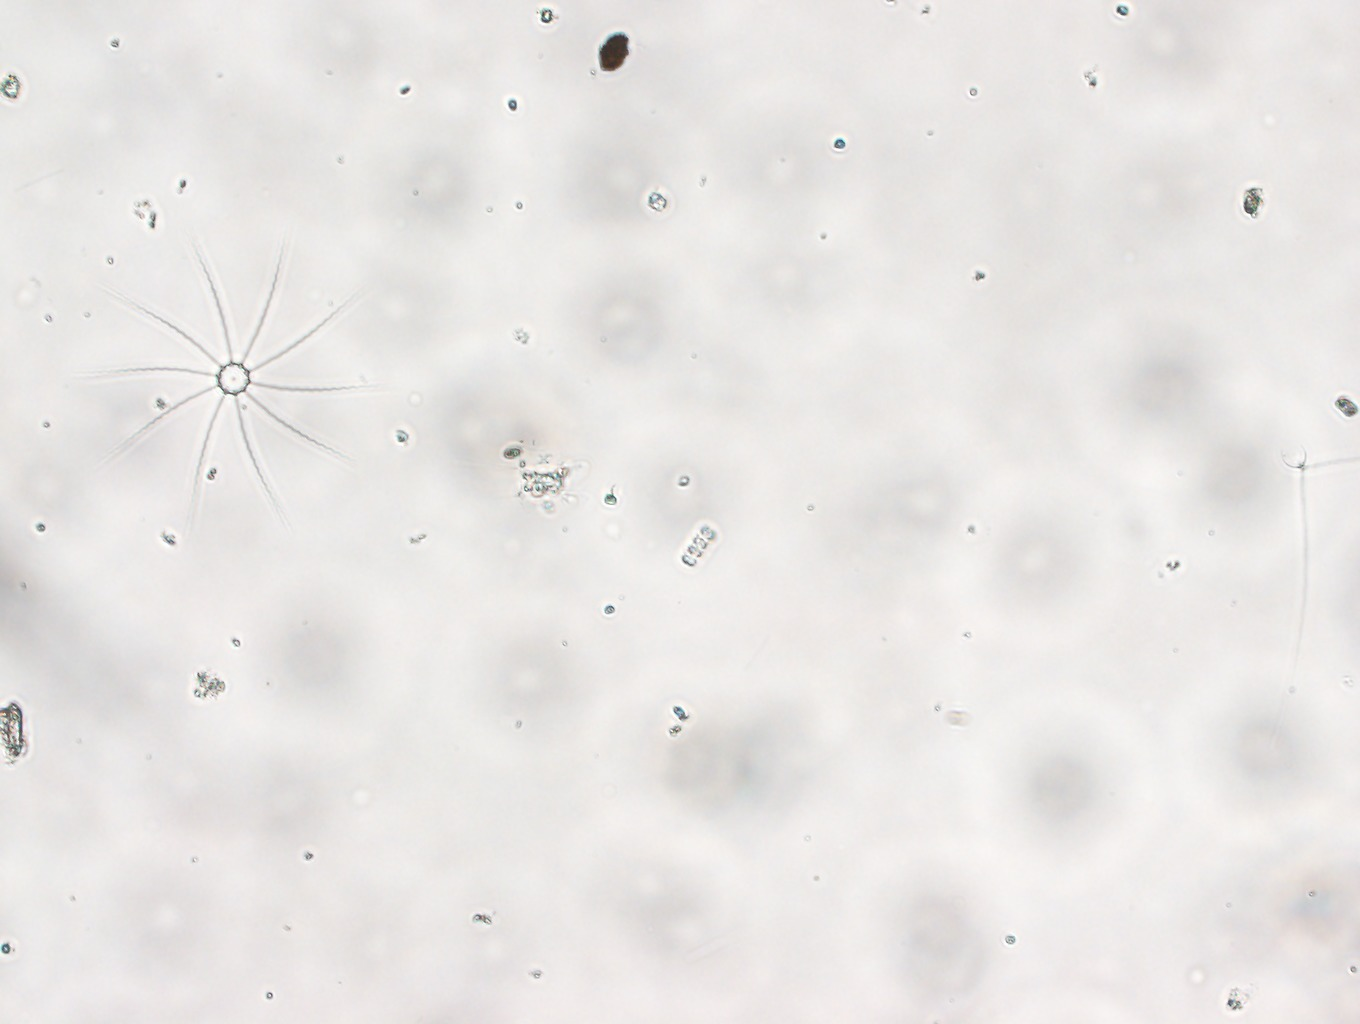bacteriastrum: (96, 245, 381, 514)
